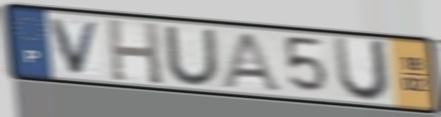5: (279, 35, 331, 97)
A: (218, 31, 286, 95)
H: (105, 16, 166, 87)
U: (331, 34, 392, 105), (161, 24, 224, 88)
V: (47, 17, 104, 77)
